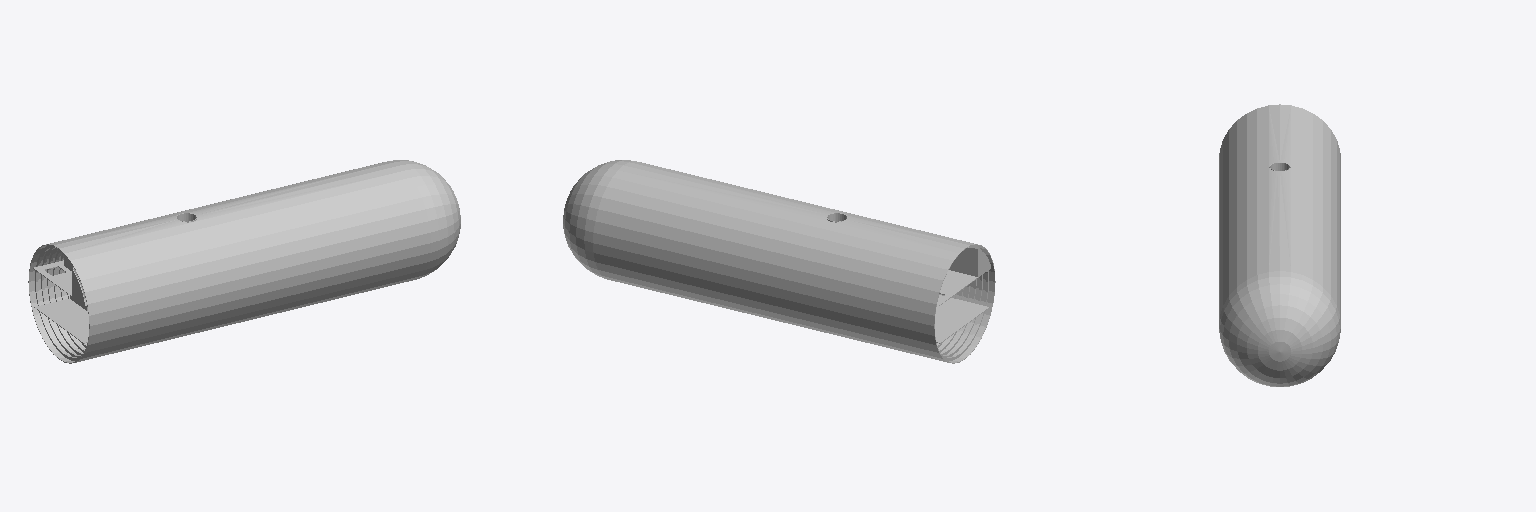
3 views of the same model, side by side, from view 1: azimuth 30°, elevation 25°; view 2: azimuth 150°, elevation 25°; view 3: azimuth 270°, elevation 25° (orthographic).
Parts seen in each view (by area): view 1: CLARK_Internals_49, CLARK_Internals_51, CLARK_Internals_50; view 2: CLARK_Internals_49, CLARK_Internals_50, CLARK_Internals_51; view 3: CLARK_Internals_49.
Part boxes in pixels (x1,y1,x2,y2): CLARK_Internals_49: (28,160,460,363); CLARK_Internals_51: (34,296,88,343); CLARK_Internals_50: (33,260,86,305); CLARK_Internals_49: (563,160,995,363); CLARK_Internals_50: (937,248,990,305); CLARK_Internals_51: (935,295,989,343); CLARK_Internals_49: (1219,104,1340,386).
Bounding box in the file's own units: 32.35 × 8.7 × 8.7.